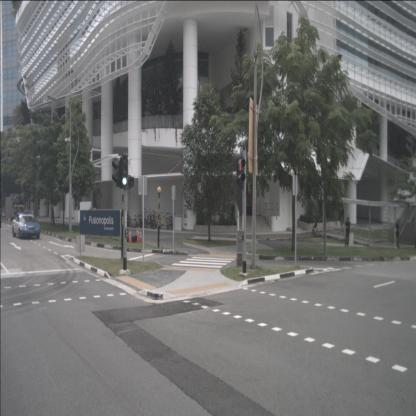human-pedestrian-adult: (344, 216, 350, 247), (395, 218, 400, 248), (312, 222, 318, 238), (334, 206, 338, 229), (340, 206, 344, 228)
movable_object-barrier: (7, 211, 12, 222)
movable_object-trafficcone: (139, 228, 142, 243), (129, 229, 132, 244), (137, 230, 140, 243), (136, 228, 138, 242)
vehicle-bicycle: (124, 214, 132, 227)
vehicle-car: (12, 212, 41, 239)
